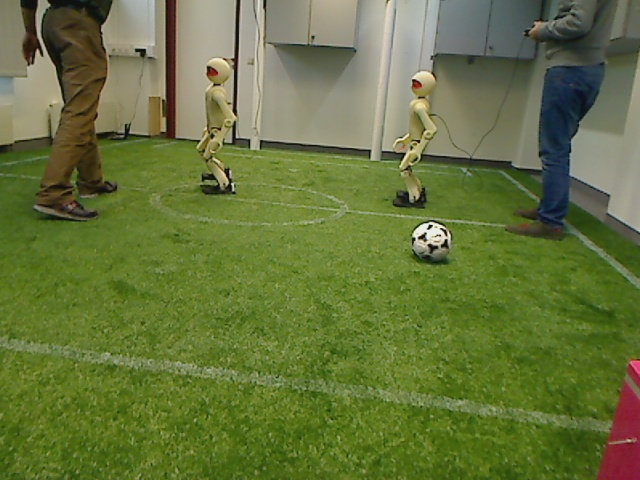ball: (407, 219, 454, 264)
robot: (192, 56, 243, 198), (391, 68, 438, 210)
